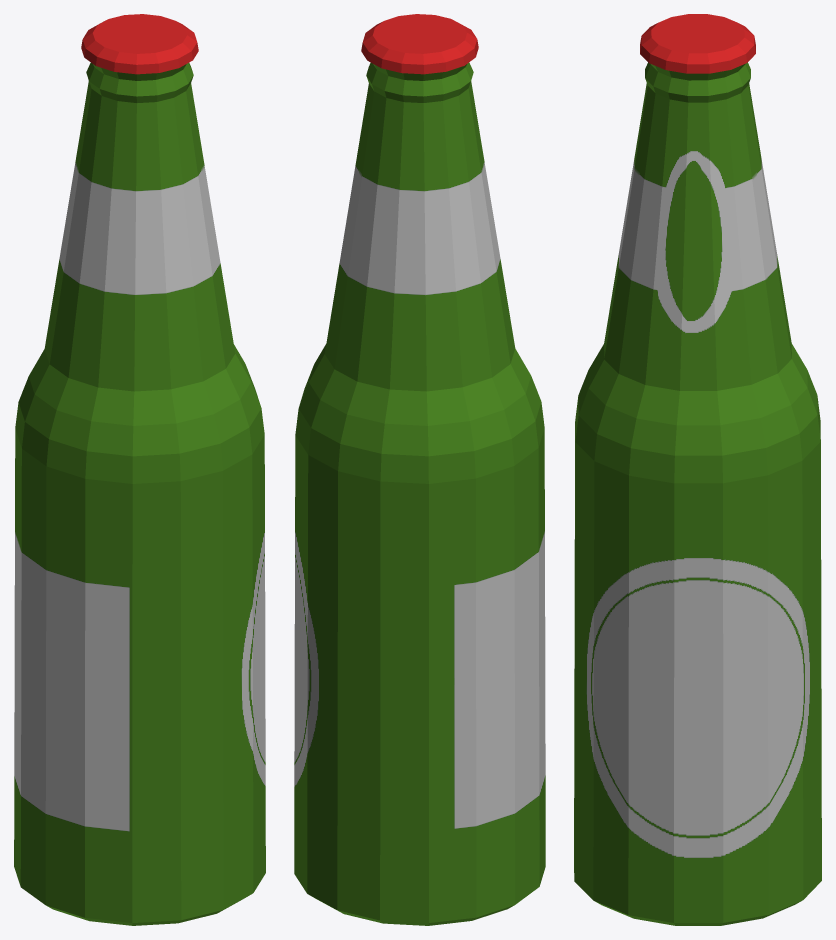
The model's file is BeerBottle.fbx.
3 renders of one model, left to right at view 1: azimuth 30°, elevation 25°; view 2: azimuth 150°, elevation 25°; view 3: azimuth 270°, elevation 25°, orthographic.
Visible parts, largest first — view 1: BeerBottle; view 2: BeerBottle; view 3: BeerBottle.
Boxes of the visible parts, bbox=[...] form: BeerBottle: bbox=[14, 14, 265, 925]; BeerBottle: bbox=[294, 14, 545, 925]; BeerBottle: bbox=[574, 14, 821, 925].
Bounding box in the file's own units: 8.63 × 32.39 × 8.63.
